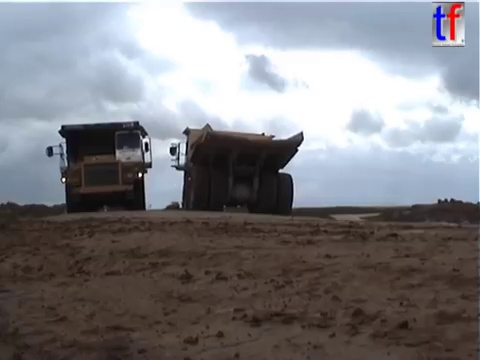truck: (167, 121, 308, 218), (43, 118, 155, 215)
